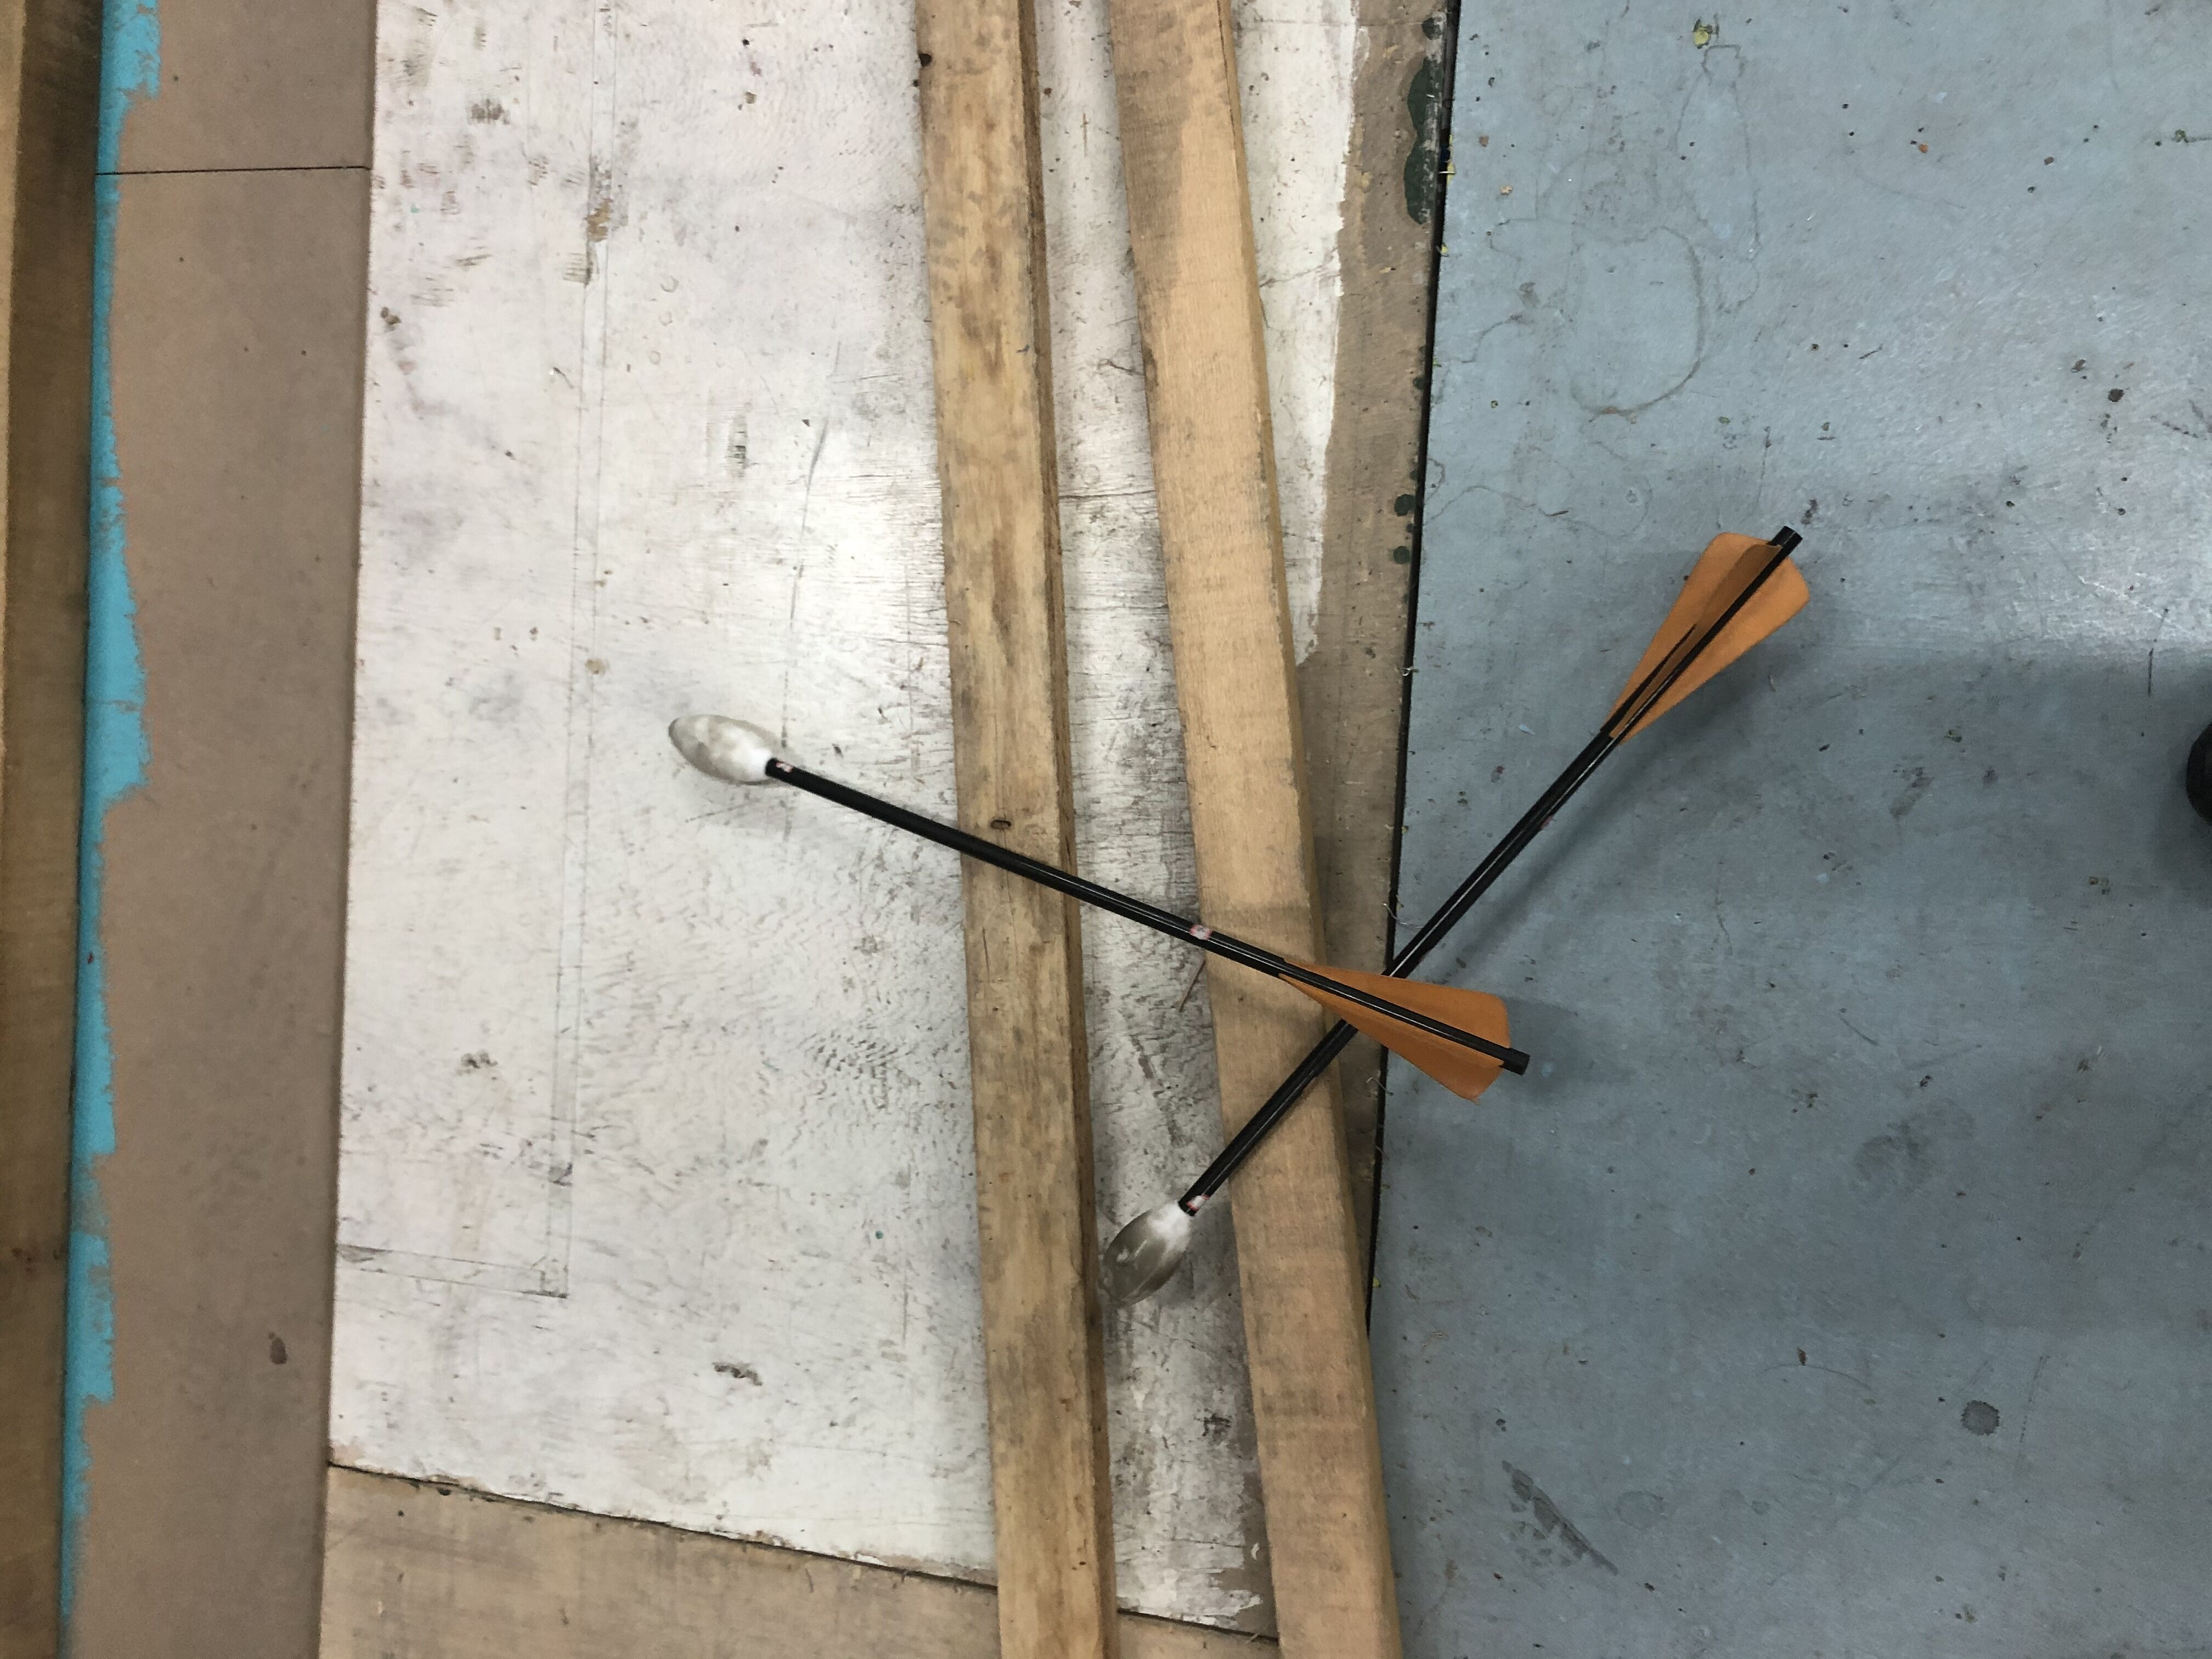arrow: (1101, 525, 1811, 1309), (667, 711, 1534, 1103)
arrowFront: (1101, 1202, 1197, 1309), (662, 709, 780, 784)
